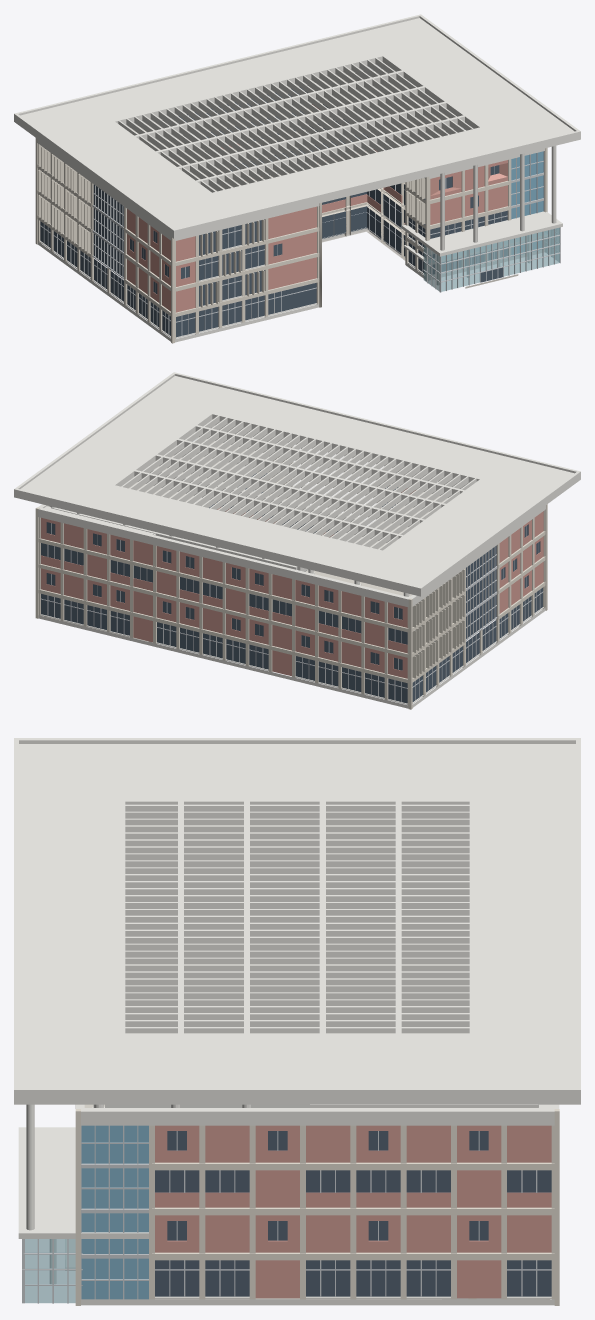
Rendered from Gateway_Exterior.glb.
3 views of the same model, one above another, from view 1: azimuth 30°, elevation 25°; view 2: azimuth 150°, elevation 25°; view 3: azimuth 270°, elevation 25° (orthographic). The views are drawn at different scales.
Visible parts, largest first — view 1: GA_Canopy, GA_Building, GA_GlassAtrium, GA_FrontColumn_001; view 2: GA_Canopy, GA_Building; view 3: GA_Canopy, GA_Building, GA_GlassAtrium, GA_FrontColumn_001.
Part boxes in pixels (<box>): GA_Canopy: <box>14,14,580,238</box>; GA_Building: <box>35,64,547,343</box>; GA_GlassAtrium: <box>402,211,562,292</box>; GA_FrontColumn_001: <box>551,145,556,223</box>; GA_Canopy: <box>14,372,580,596</box>; GA_Building: <box>35,425,547,709</box>; GA_Canopy: <box>14,738,580,1104</box>; GA_Building: <box>75,1104,559,1305</box>; GA_GlassAtrium: <box>18,1127,148,1303</box>; GA_FrontColumn_001: <box>26,1104,34,1230</box>.
Size of the model in its own units: 141 by 43.5 by 95.79.
